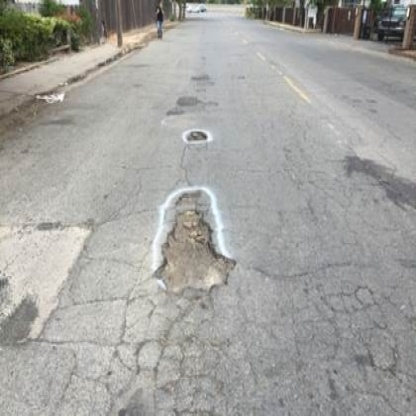pothole: (143, 185, 240, 296), (179, 125, 212, 145)
